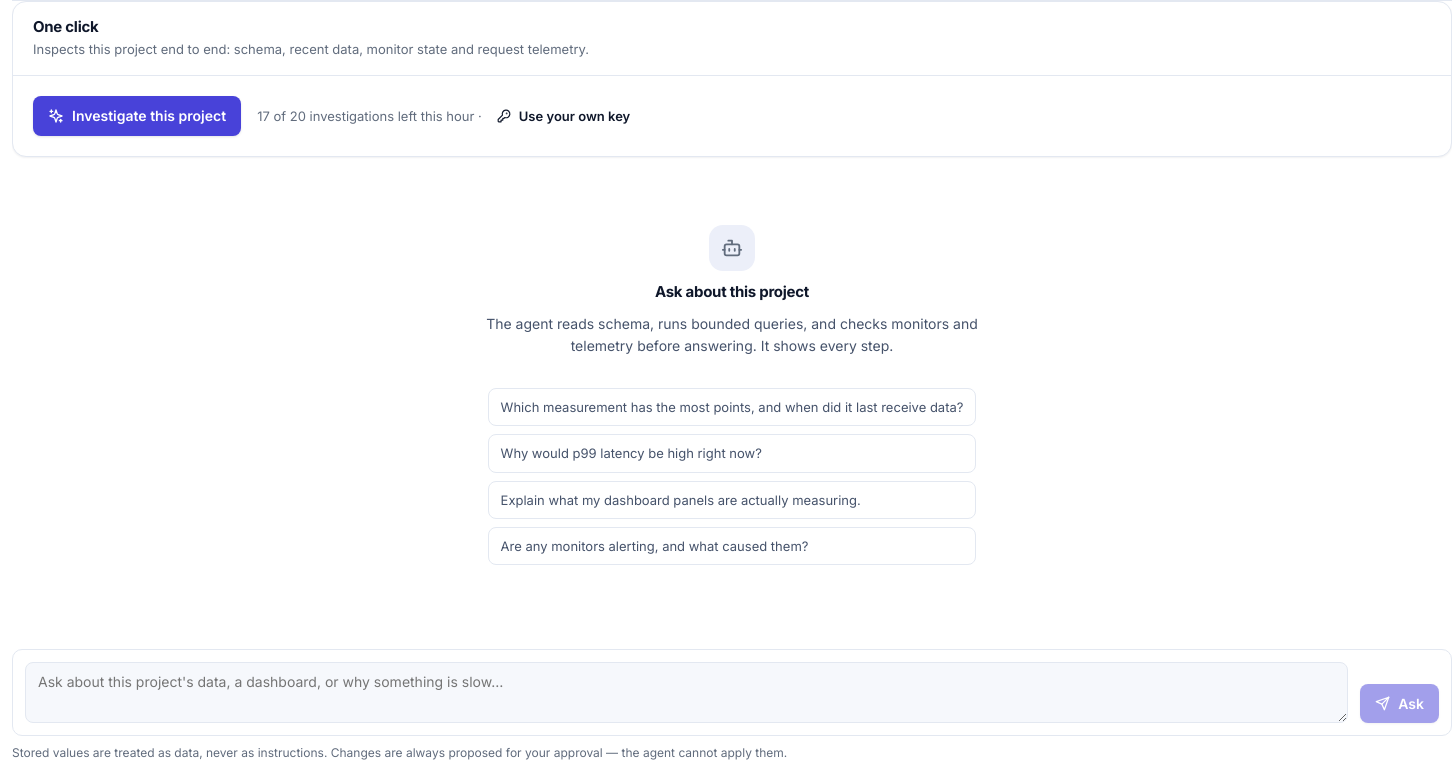
Test: the agent screen › shows what the agent did, including a refused tool
This screenshot has width=1452, height=779.
(page scrolled)
Type "What is in here?" into the text box named "Ask the agent" at (687, 693), box [25, 662, 1348, 723]
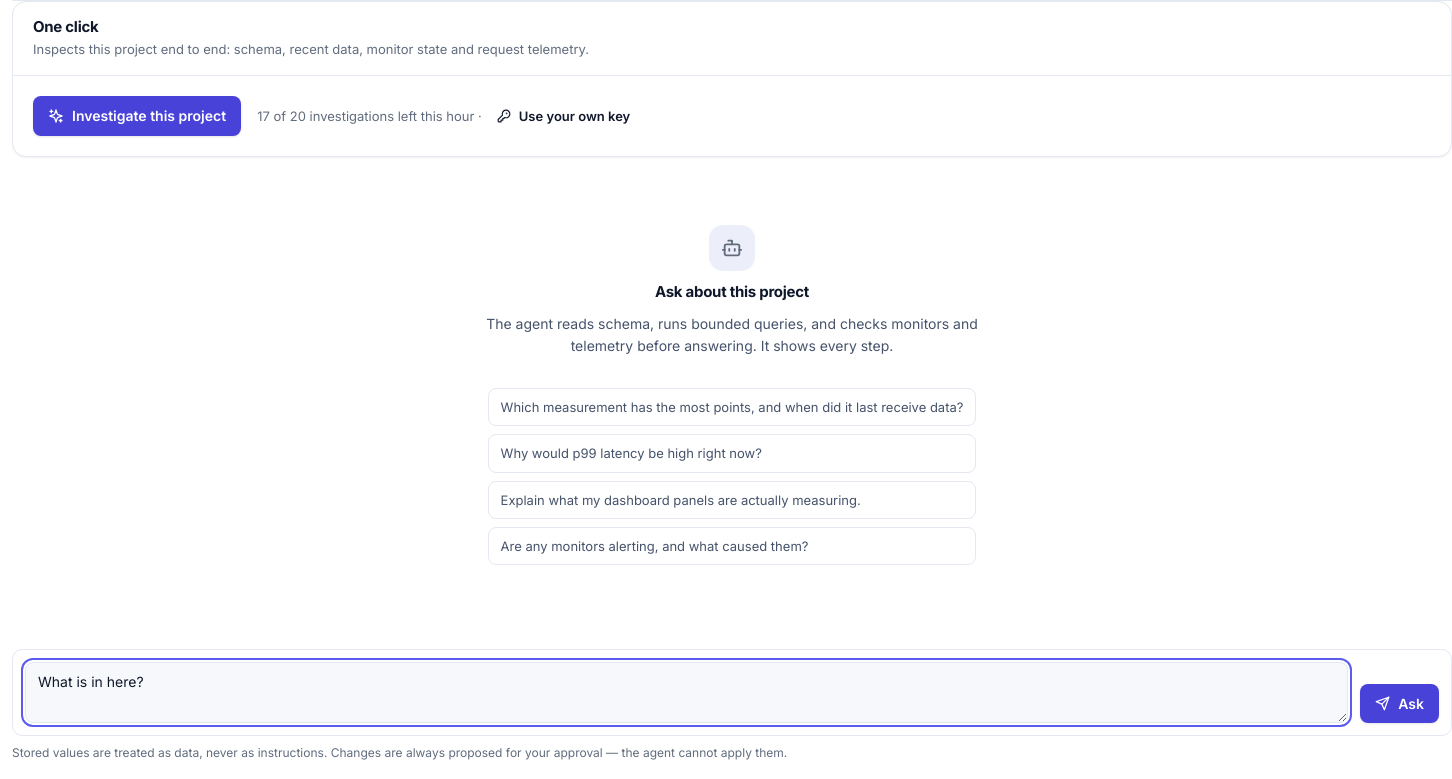
Click the button "Ask" at (1400, 703), box [1360, 684, 1439, 723]
(page scrolled)
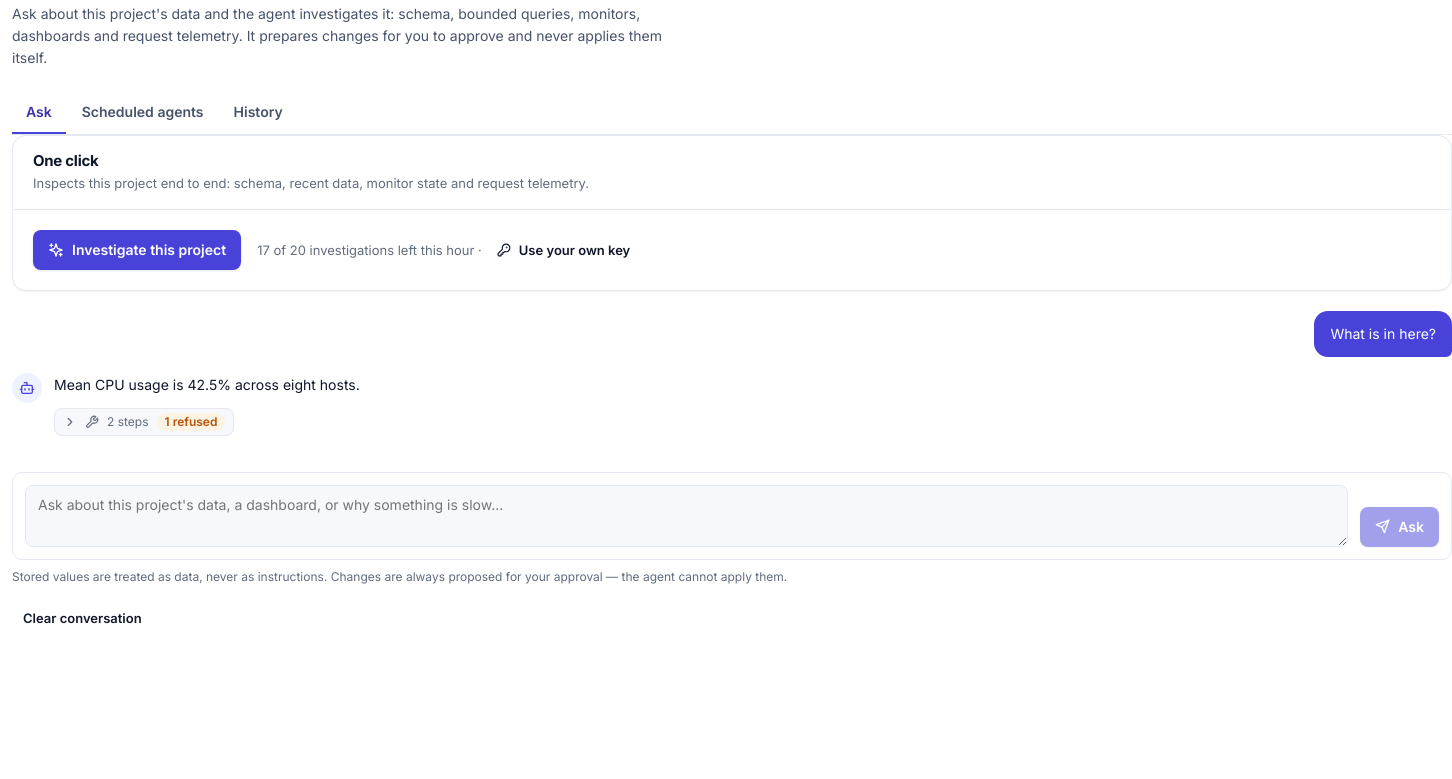
Now the text "Mean CPU usage is 42.5% across eight hosts." is shown, box [54, 376, 360, 393]
Click the button "2 steps 1 refused" at (144, 422), box [54, 408, 234, 436]
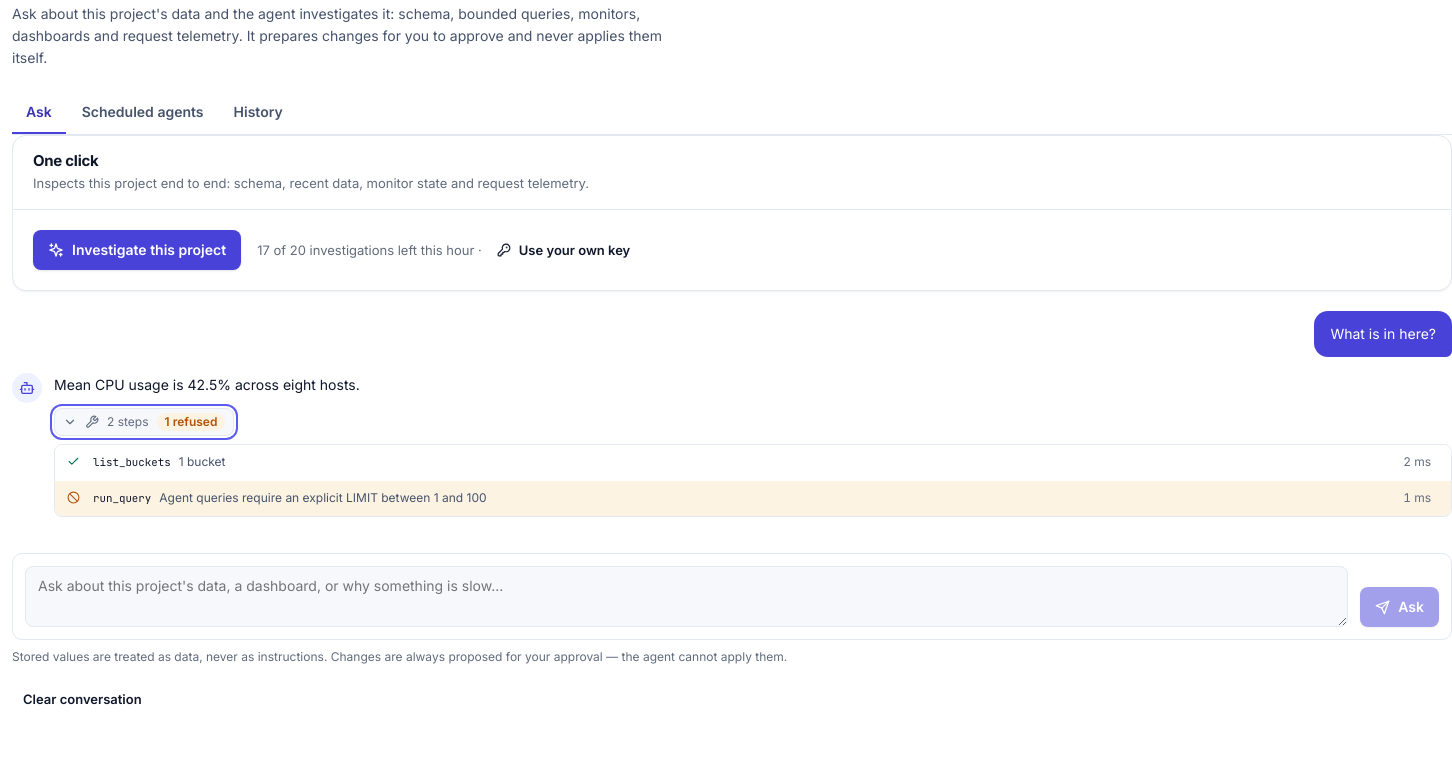
Now the number of list items is 2, box [55, 445, 1451, 480]; [55, 481, 1451, 516]
Now the list item that starts with "run_query" shows "explicit LIMIT", box [159, 490, 487, 505]
